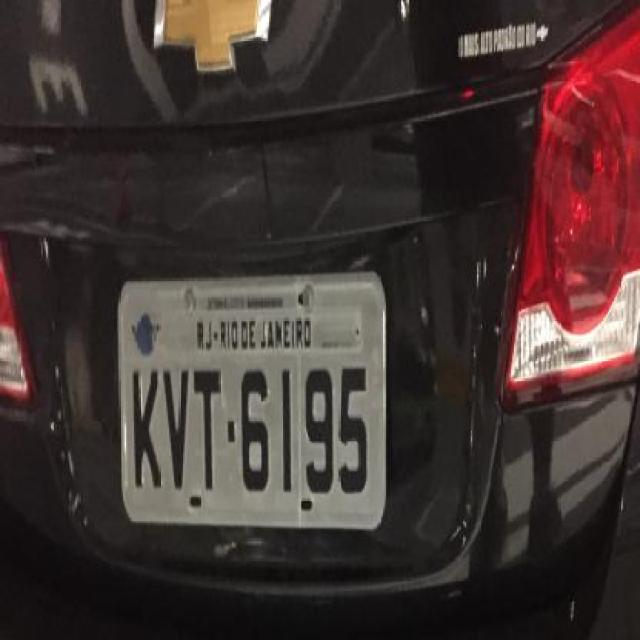old_plate: (111, 267, 398, 539)
